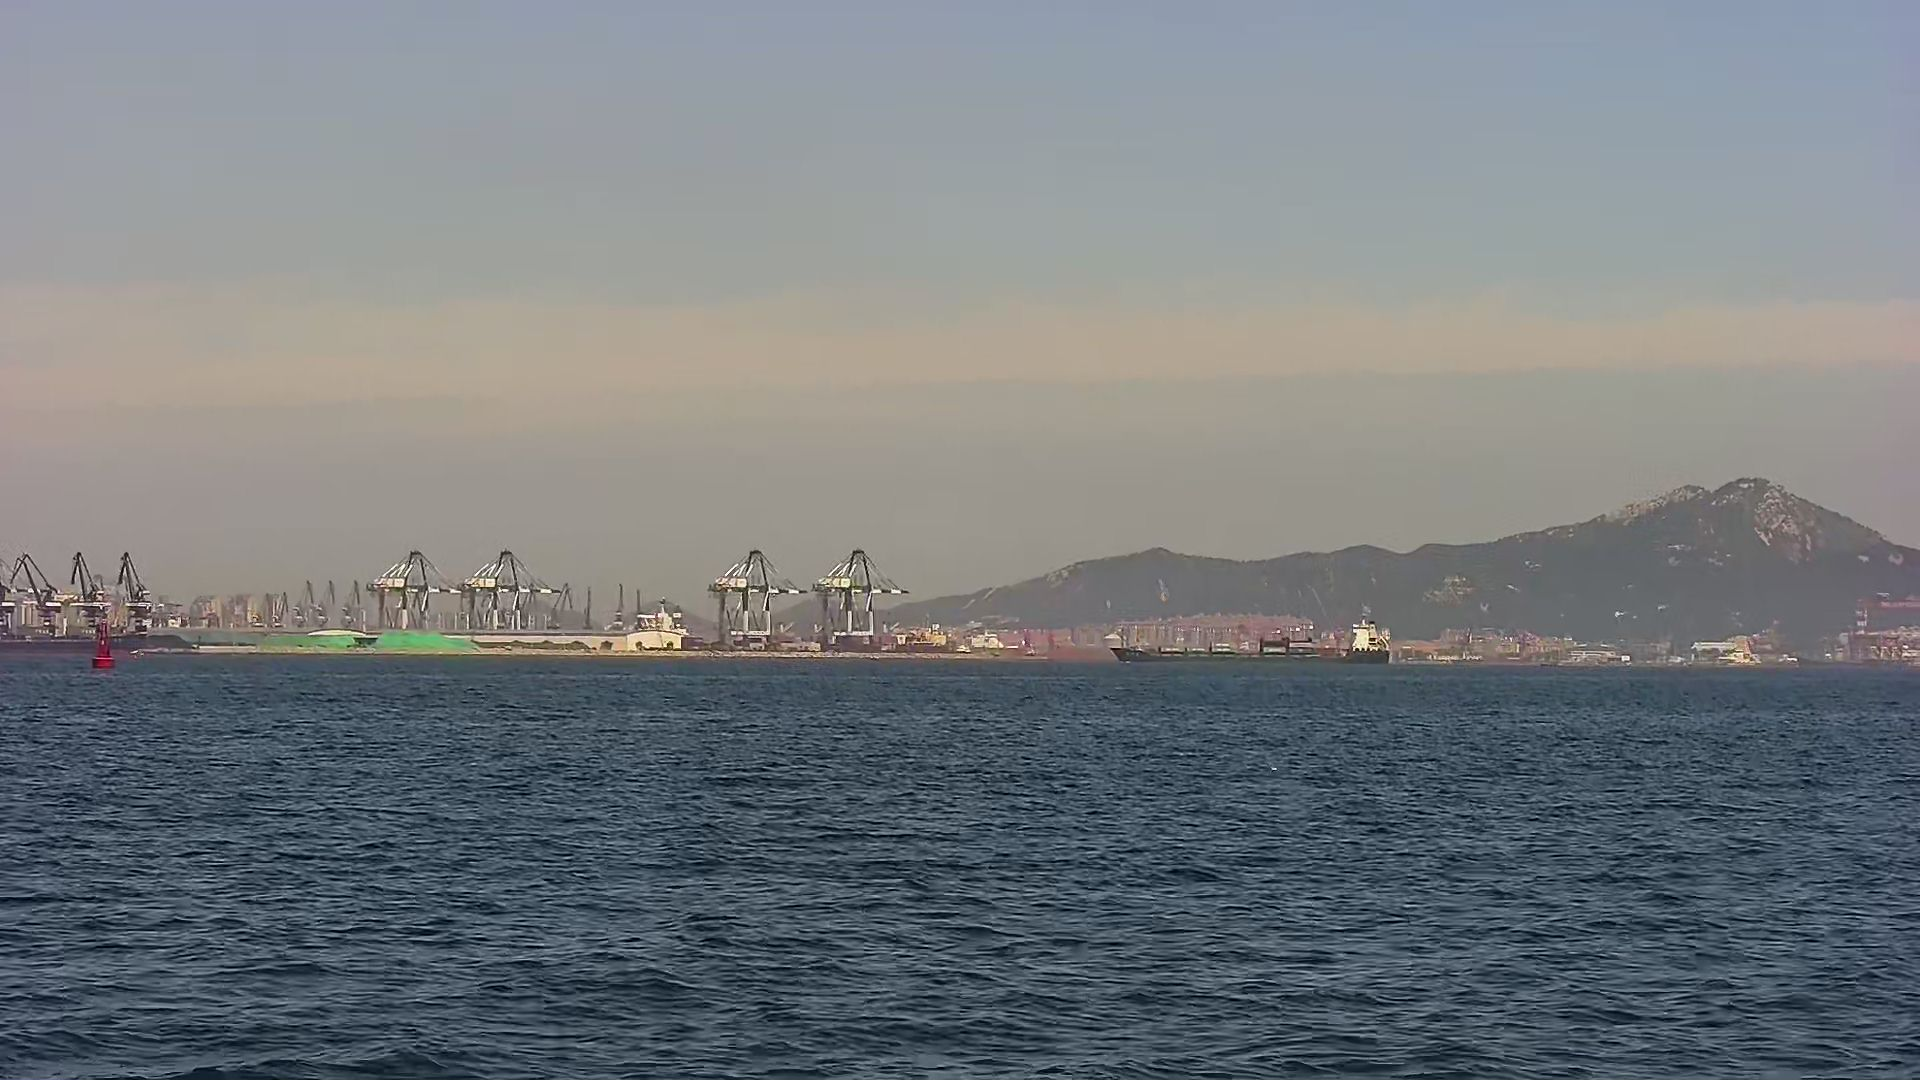buoy: (88, 618, 115, 669)
ship: (1110, 622, 1394, 665)
